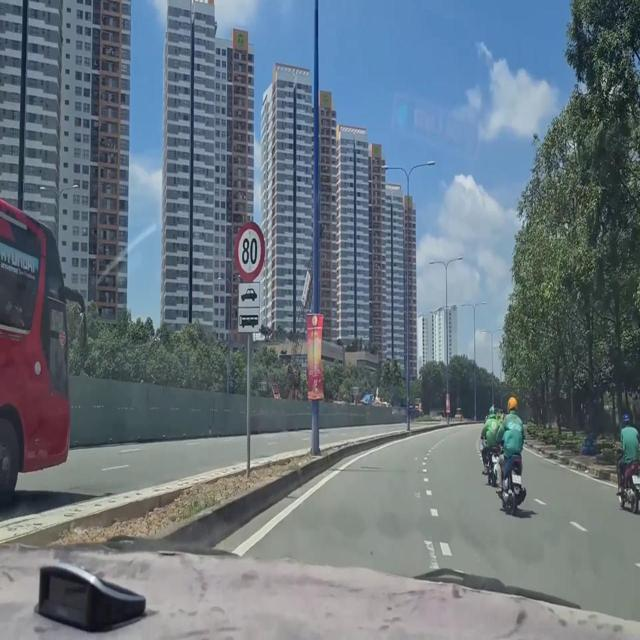Biển phụ: (232, 277, 266, 336)
Giới hạn tốc độ 80Km/h: (233, 202, 266, 281)
